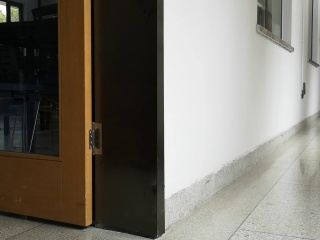room: (2, 2, 170, 240)
